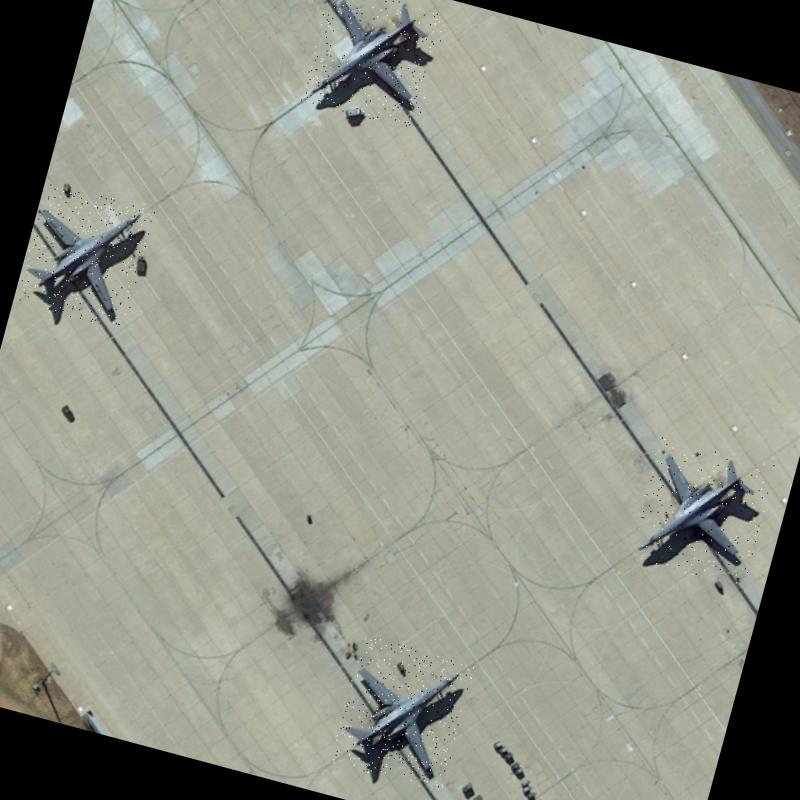A10: (626, 434, 776, 590), (329, 634, 475, 792), (14, 180, 156, 331), (299, 0, 447, 131)
